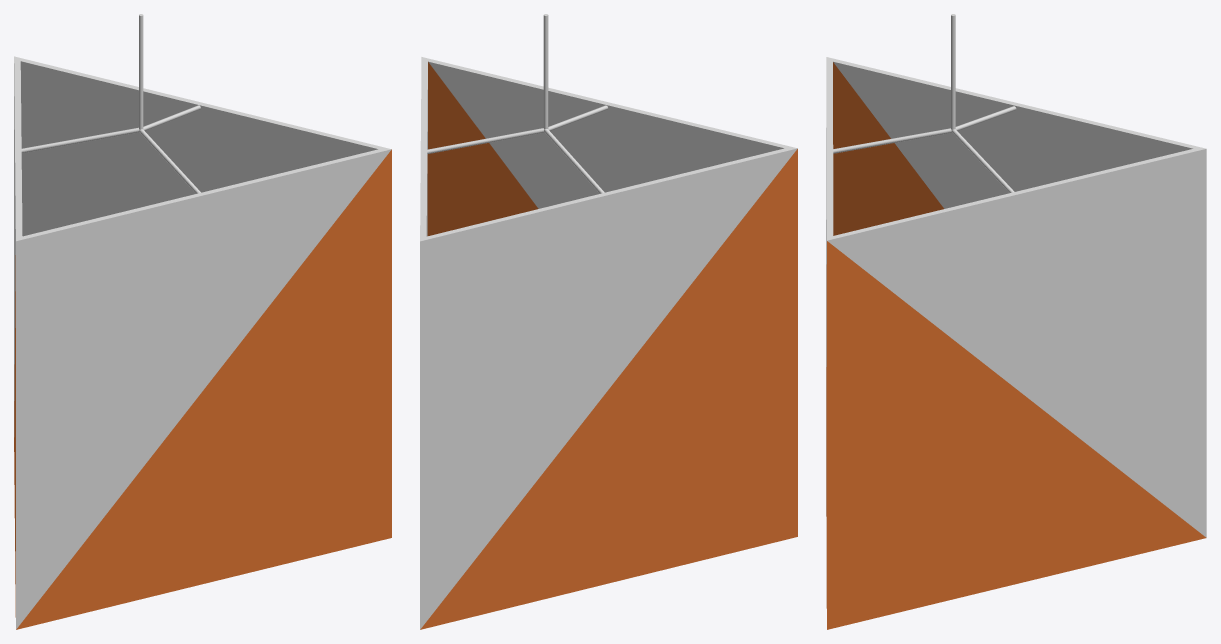
The model's file is pointws.fbx.
3 views of the same model, side by side, from view 1: azimuth 30°, elevation 25°; view 2: azimuth 150°, elevation 25°; view 3: azimuth 270°, elevation 25° (orthographic).
Parts seen in each view (by area): view 1: Point, Cylinder.002, Cylinder.003; view 2: Point, Cylinder.003, Cylinder.001; view 3: Point, Cylinder, Cylinder.003.
Part boxes in pixels (bbox=[...]): Point: bbox=[14, 56, 391, 629]; Cylinder.002: bbox=[21, 127, 139, 153]; Cylinder.003: bbox=[139, 14, 143, 129]; Point: bbox=[420, 57, 797, 629]; Cylinder.003: bbox=[543, 14, 548, 129]; Cylinder.001: bbox=[427, 128, 544, 154]; Point: bbox=[826, 57, 1206, 629]; Cylinder: bbox=[833, 128, 951, 153]; Cylinder.003: bbox=[951, 14, 955, 129].
Size of the model in its own units: 172 by 229 by 151.
